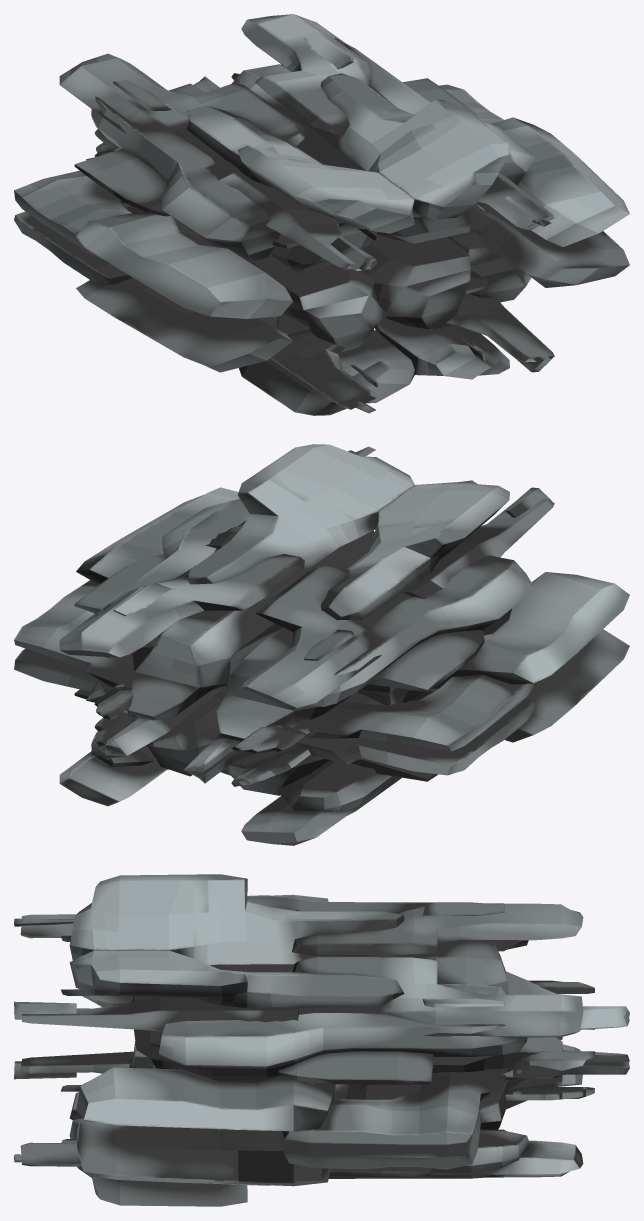
The model's file is Frigate_000.fbx.
The picture shows the model from 3 angles, top to bottom: view 1: azimuth 30°, elevation 25°; view 2: azimuth 150°, elevation 25°; view 3: azimuth 270°, elevation 25°; orthographic projection. The views are drawn at different scales.
Visible parts, largest first — view 1: Frigate_000; view 2: Frigate_000; view 3: Frigate_000.
Boxes of the visible parts, left/top/right/bottom form: Frigate_000: left=14, top=14, right=629, bottom=415; Frigate_000: left=14, top=444, right=629, bottom=845; Frigate_000: left=14, top=874, right=629, bottom=1206.
Bounding box in the file's own units: 19.48 × 8.96 × 21.68.
